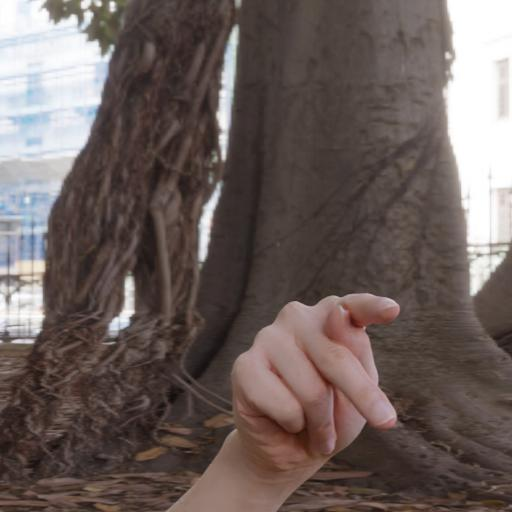P: (211, 282, 412, 476)
